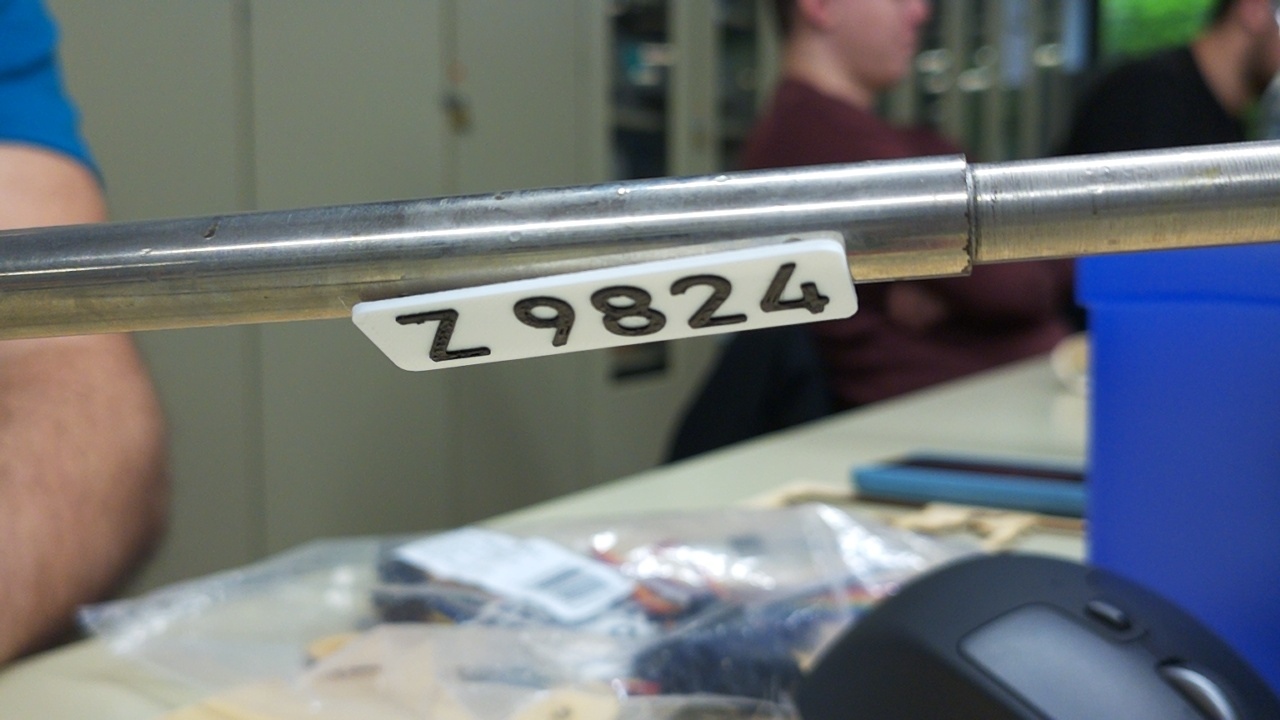license_plate: (347, 235, 868, 379)
